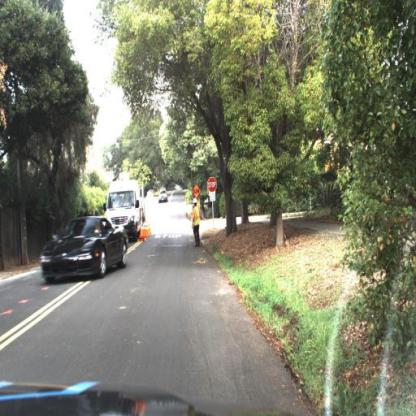car: (37, 215, 137, 292), (104, 178, 147, 235), (159, 187, 169, 207)
pedestrian: (190, 192, 204, 252)
